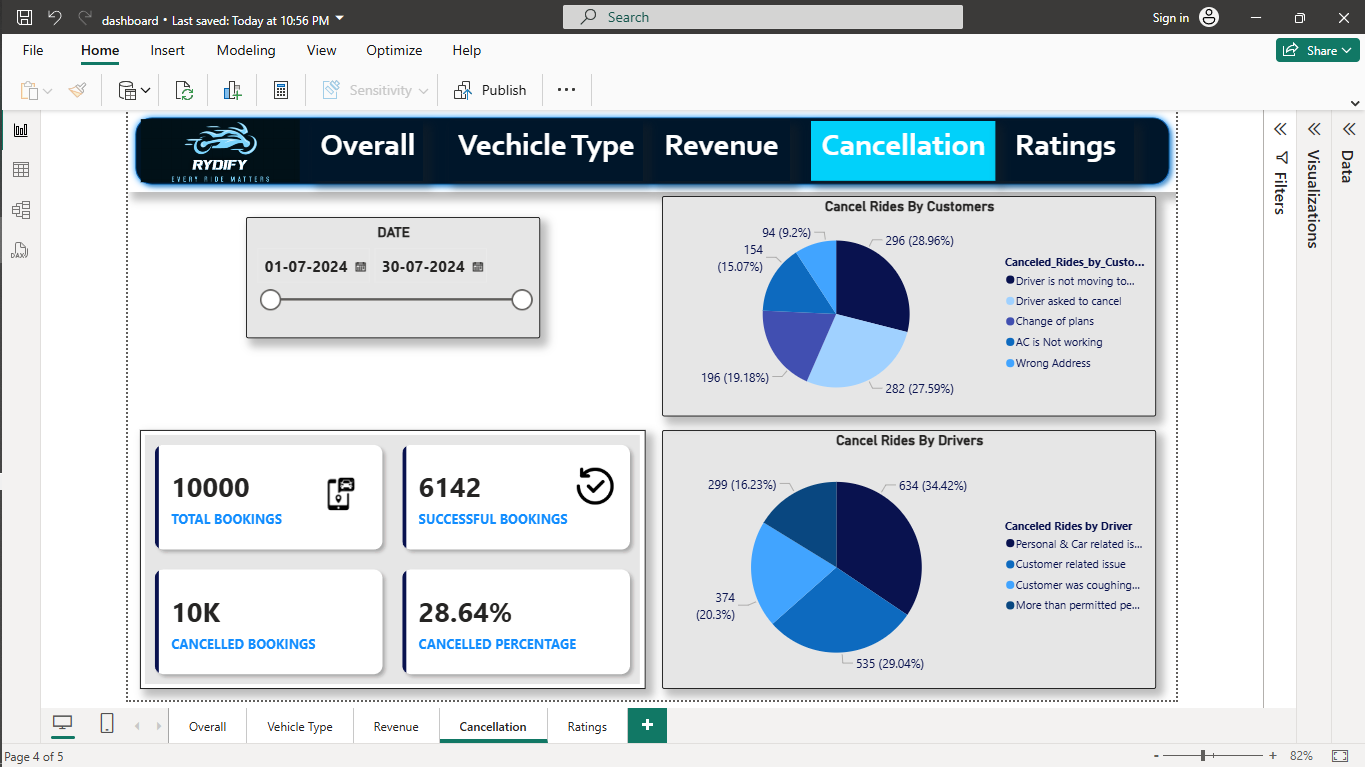

What the dashboard file says about the page in this screenshot:
{"tool":"powerbi","page":{"name":"Cancellation","canvas":[1280,720],"ordinal":3},"visuals":[{"type":"shape","box":[0,0,1280,100],"z":0},{"type":"textbox","box":[224,13.3,136,73.3],"z":1000},{"type":"textbox","box":[392,13.3,237.3,73.3],"z":2000},{"type":"textbox","box":[640,13.3,169.3,73.3],"z":3000},{"type":"textbox","box":[833.3,13.3,225.3,73.3],"z":4000},{"type":"textbox","box":[1058.7,13.3,169.3,73.3],"z":5000},{"type":"image","box":[14.7,6.7,200,86.7],"z":6000},{"type":"actionButton","box":[1058.7,10.7,169.3,73.3],"z":7000},{"type":"actionButton","box":[392,10.7,237.3,76],"z":8000},{"type":"actionButton","box":[640,12,178.7,73.3],"z":9000},{"type":"actionButton","box":[214.7,10.7,156,73.3],"z":10000},{"type":"pieChart","title":"Cancel Rides By Drivers","fields":{"Category":["cleaned_kanpur_data.Canceled_Rides_by_Driver"],"Y":["CountNonNull(cleaned_kanpur_data.Canceled_Rides_by_Driver)"]},"box":[652,390.7,602.7,316],"z":11000},{"type":"pieChart","title":"Cancel Rides By Customers","fields":{"Y":["CountNonNull(cleaned_kanpur_data.Canceled_Rides_by_Customer)"],"Category":["cleaned_kanpur_data.Canceled_Rides_by_Customer"]},"box":[652,105.3,602.7,269.3],"z":12000},{"type":"cardVisual","fields":{"Data":["DAX measures.Total Bookings","DAX measures.Successful Bookings","Count(cleaned_kanpur_data.Booking_ID)","DAX measures.Cancelled Percentage"]},"box":[14.7,390.7,617.3,316],"z":13000},{"type":"slicer","title":"DATE","fields":{"Values":["cleaned_kanpur_data.Date"]},"box":[144,130.7,358.7,148],"z":14000}]}

Visuals, with their boxes on the page's 1280x720 design canvas (x1, y1, x2, y2). These are canvas units, not pixel positions in the 1365x767 screenshot, which may show the page scaled, cropped or inside an application window:
shape: 0 0 1280 100
textbox: 224 13 360 87
textbox: 392 13 629 87
textbox: 640 13 809 87
textbox: 833 13 1059 87
textbox: 1059 13 1228 87
image: 15 7 215 93
actionButton: 1059 11 1228 84
actionButton: 392 11 629 87
actionButton: 640 12 819 85
actionButton: 215 11 371 84
"Cancel Rides By Drivers" pieChart: 652 391 1255 707
"Cancel Rides By Customers" pieChart: 652 105 1255 375
cardVisual - DAX measures.Total Bookings x DAX measures.Successful Bookings: 15 391 632 707
"DATE" slicer: 144 131 503 279
